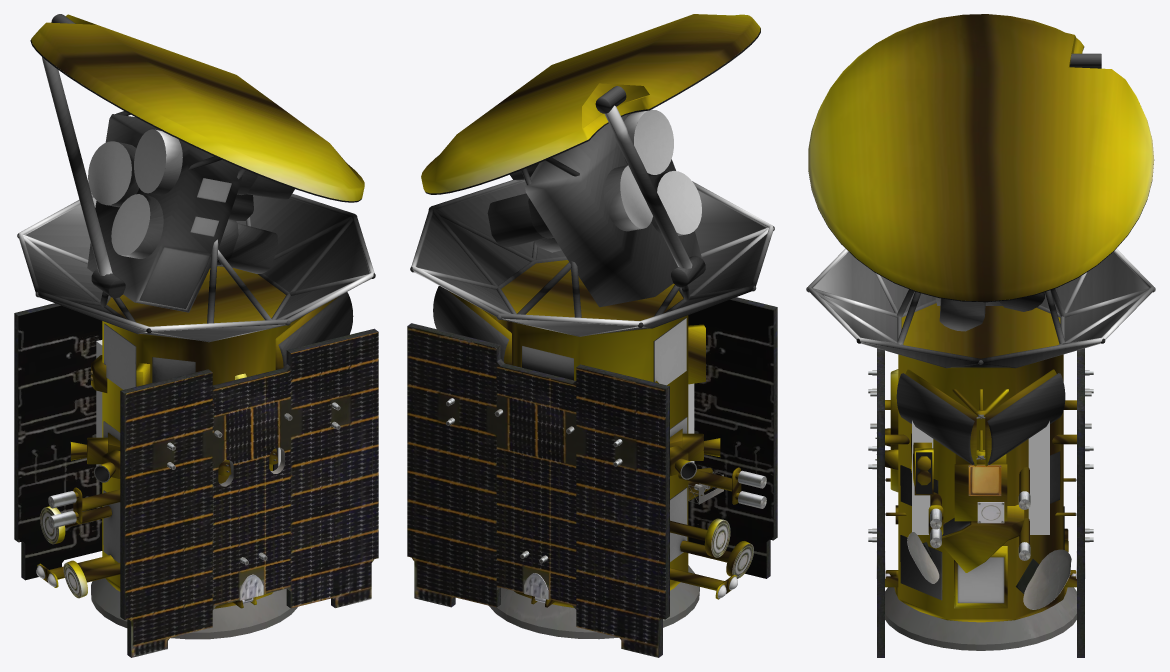
Rendered from aquarius-b.glb.
The picture shows the model from 3 angles, left to right: view 1: azimuth 30°, elevation 25°; view 2: azimuth 150°, elevation 25°; view 3: azimuth 270°, elevation 25°; orthographic projection. The views are drawn at different scales.
Parts seen in each view (by area): view 1: shiny_panel_left, foil_silver, foil_gold, tex_02, AO_other_ud, tex_black; view 2: shiny_panel_left, foil_silver, foil_gold, tex_02, AO_other_ud, tex_black; view 3: foil_gold, foil_silver, shiny_panel_left, AO_other_ud, _root, tex_black.
Boxes of the visible parts, <box> form: shiny_panel_left: <box>14,303,378,657</box>; foil_silver: <box>17,14,375,366</box>; foil_gold: <box>31,14,364,608</box>; tex_02: <box>18,305,102,580</box>; AO_other_ud: <box>36,129,278,587</box>; tex_black: <box>30,40,361,481</box>; shiny_panel_left: <box>407,297,777,657</box>; foil_silver: <box>410,86,774,361</box>; foil_gold: <box>421,14,760,607</box>; tex_02: <box>669,299,773,615</box>; AO_other_ud: <box>522,109,737,598</box>; tex_black: <box>425,28,760,478</box>; foil_gold: <box>808,14,1153,622</box>; foil_silver: <box>806,53,1155,464</box>; shiny_panel_left: <box>868,348,1093,657</box>; AO_other_ud: <box>900,451,1064,603</box>; _root: <box>912,420,1049,534</box>; tex_black: <box>808,46,1154,493</box>.
Size of the model in its own units: 2.53 by 4.27 by 2.53.
Materials: 7 (7 with a texture image).
